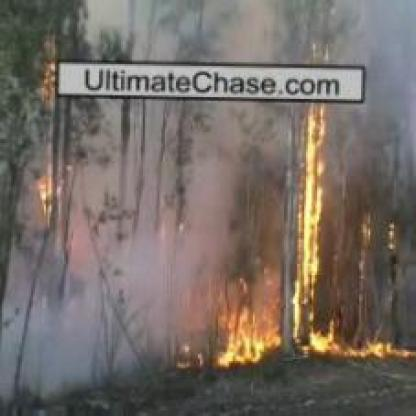fire: (293, 29, 392, 358), (208, 266, 281, 362), (31, 165, 68, 223)
